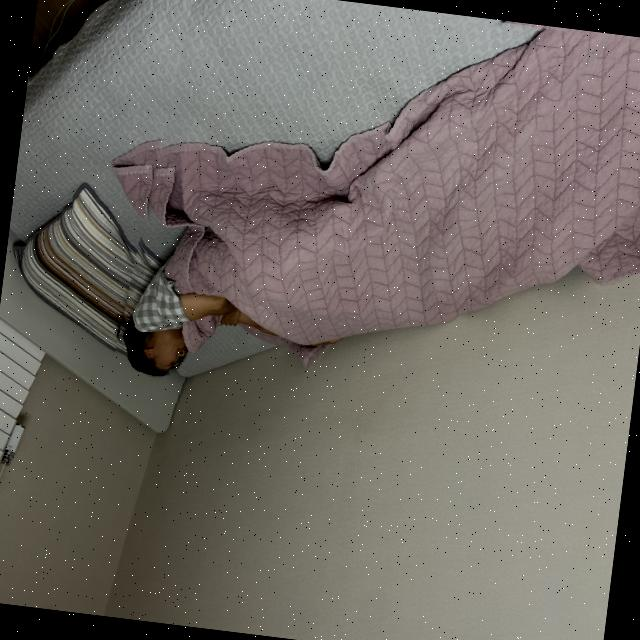people: (103, 0, 640, 463)
